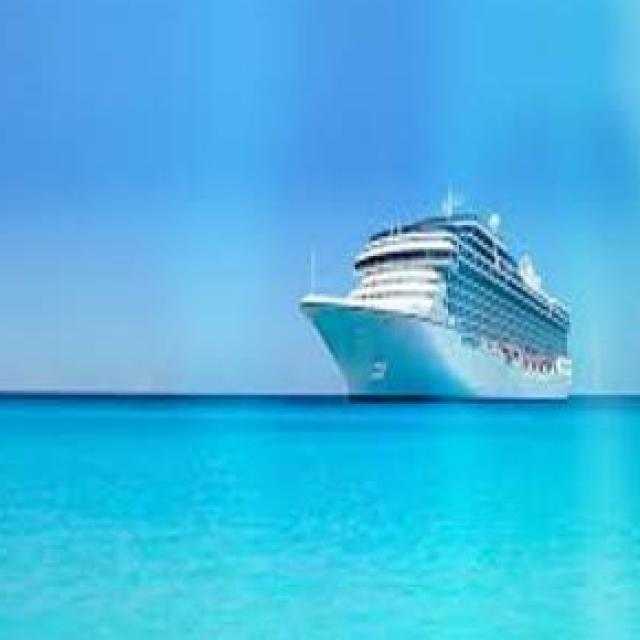passenger ship: (293, 183, 579, 406)
